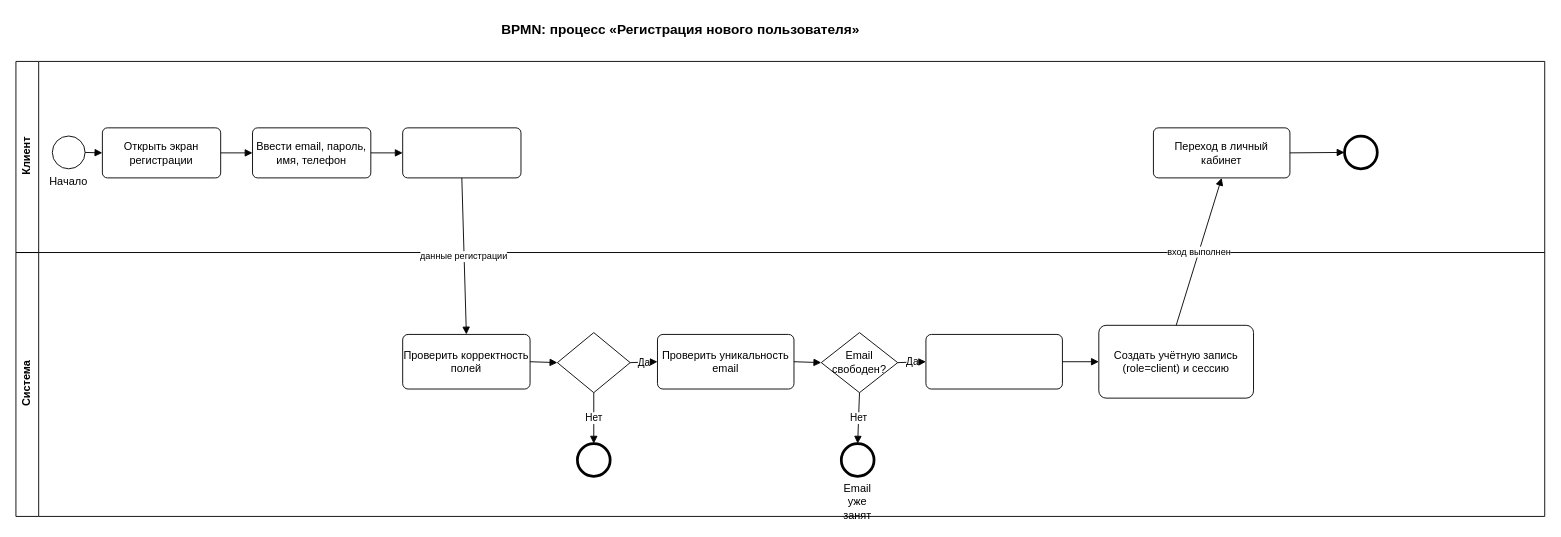
Some shapes in this 1561 by 537 pixel diagram are drawn without their labels. The centre of each missing label's shape, as x and y in pixels:
Данные верны?: the point at 593,362
Захешировать пароль (PBKDF2): the point at 993,361
Нажать «Зарегистрироваться»: the point at 461,152
Ошибка валидации: the point at 593,459
Регистрация завершена: the point at 1360,152
